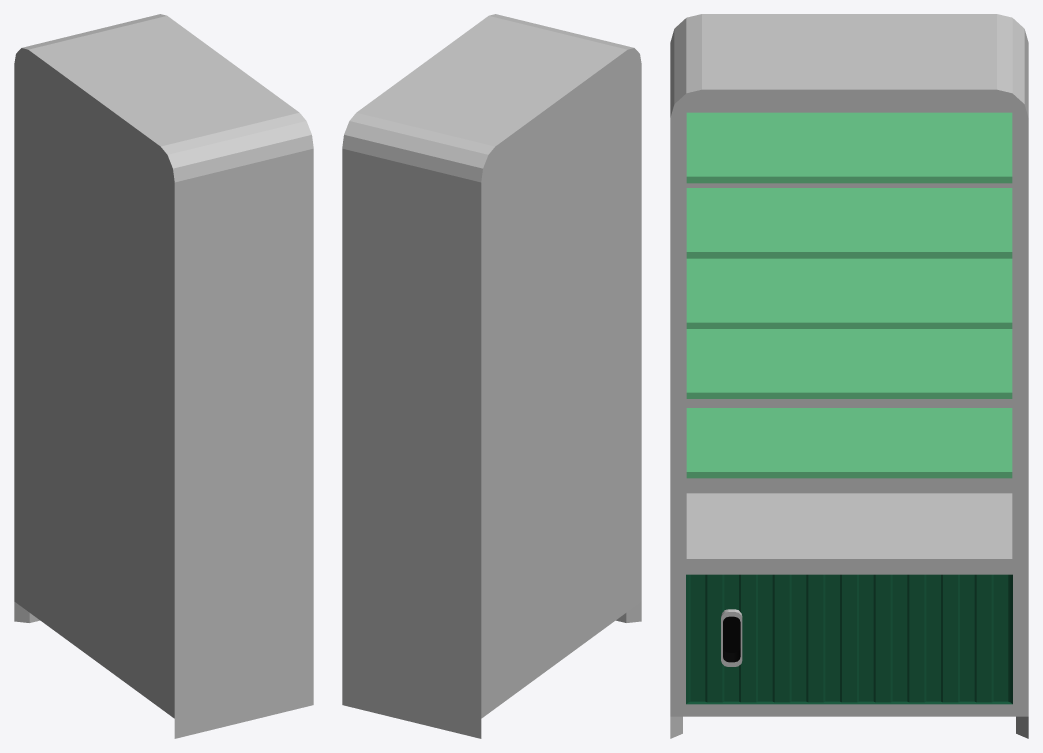
Rendered from Closet.fbx.
3 renders of one model, left to right at view 1: azimuth 30°, elevation 25°; view 2: azimuth 150°, elevation 25°; view 3: azimuth 270°, elevation 25°, orthographic. The views are drawn at different scales.
Visible parts, largest first — view 1: Cube_6; view 2: Cube_6; view 3: Cube_6, Cube_1, Cube_7, Cube, Cube_2, Cube_3, Cube_5, Cube_4, Cube_3_2.
Boxes of the visible parts, x1,y1,x2,y2 form: Cube_6: [14, 14, 313, 738]; Cube_6: [342, 14, 641, 738]; Cube_6: [670, 14, 1028, 738]; Cube_1: [686, 574, 1012, 704]; Cube_7: [686, 108, 1012, 558]; Cube: [686, 112, 1012, 183]; Cube_2: [686, 188, 1012, 258]; Cube_3: [686, 258, 1012, 328]; Cube_5: [686, 408, 1012, 478]; Cube_4: [686, 329, 1012, 398]; Cube_3_2: [723, 616, 740, 662].
Size of the model in its own units: 50 by 200 by 100.
